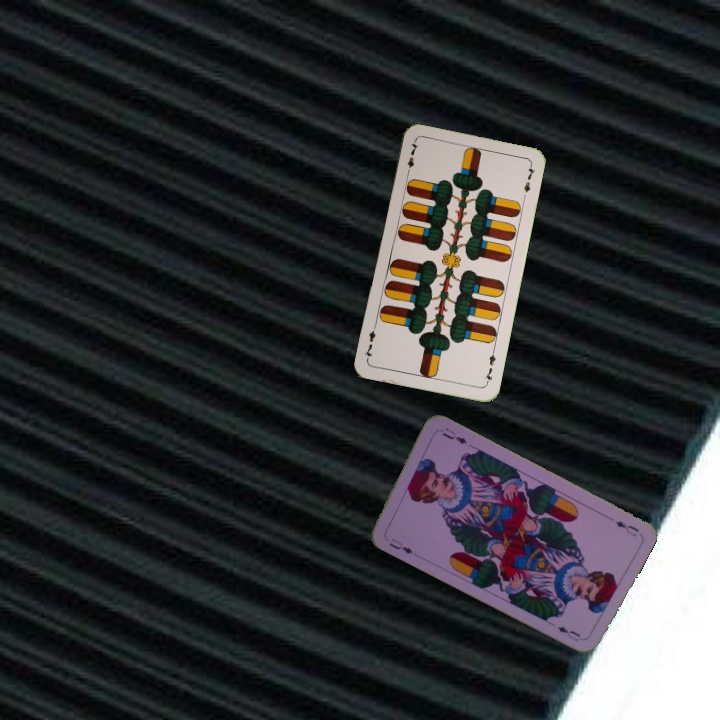E7: (403, 138, 421, 178), (481, 346, 498, 387)
EU: (385, 534, 416, 557), (611, 517, 641, 539)
